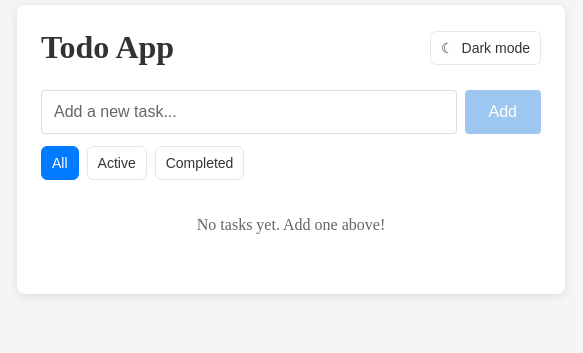
Test: edits a todo on double-click: Enter saves, Escape cancels
In the field with placeholder "Add a new task...": (249, 112) x1=41 y1=90 x2=456 y2=134, type "buy mlk"
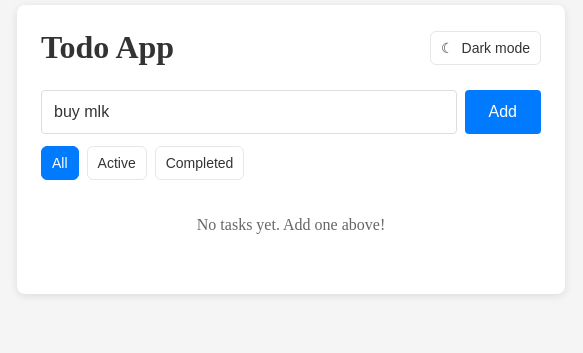
Submit the form with placeholder "Add a new task", box x1=41 y1=90 x2=541 y2=134
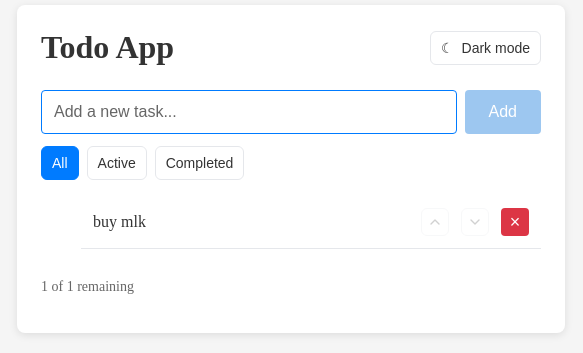
Double-click the text "buy mlk": (119, 222) x1=93 y1=213 x2=146 y2=230
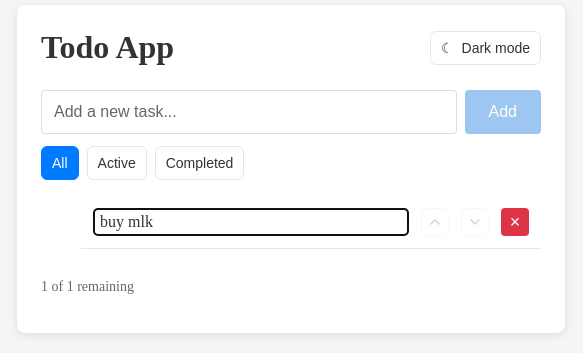
Replace the text in the field named "edit task" with "buy milk": (251, 222) x1=93 y1=208 x2=409 y2=236
Press Enter in the field named "edit task", box x1=93 y1=208 x2=409 y2=236
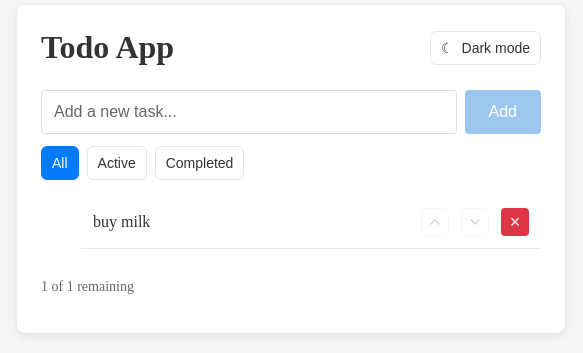
Now the text "buy milk" is shown
Double-click the text "buy milk": (122, 222) x1=93 y1=213 x2=150 y2=230
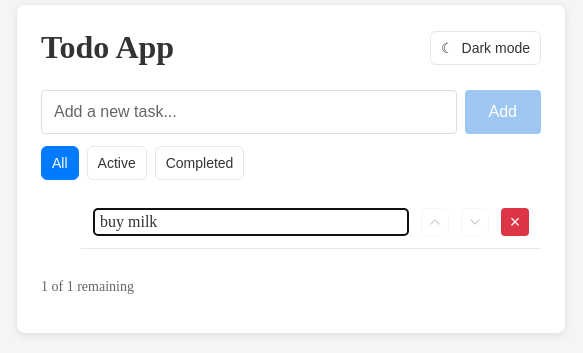
Replace the text in the field named "edit task" with "discard me": (251, 222) x1=93 y1=208 x2=409 y2=236
Press Escape in the field named "edit task", box x1=93 y1=208 x2=409 y2=236
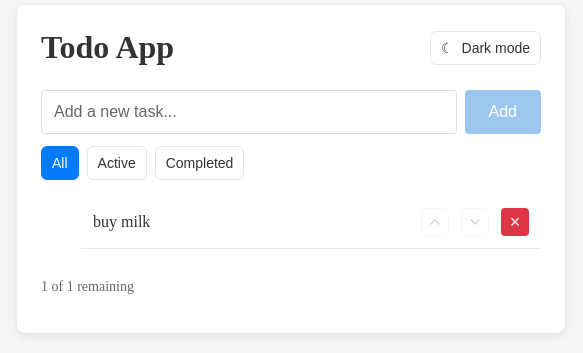
Now the text "buy milk" is shown, box x1=93 y1=213 x2=150 y2=230
